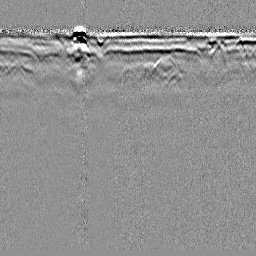cavity: (117, 63, 139, 82)
